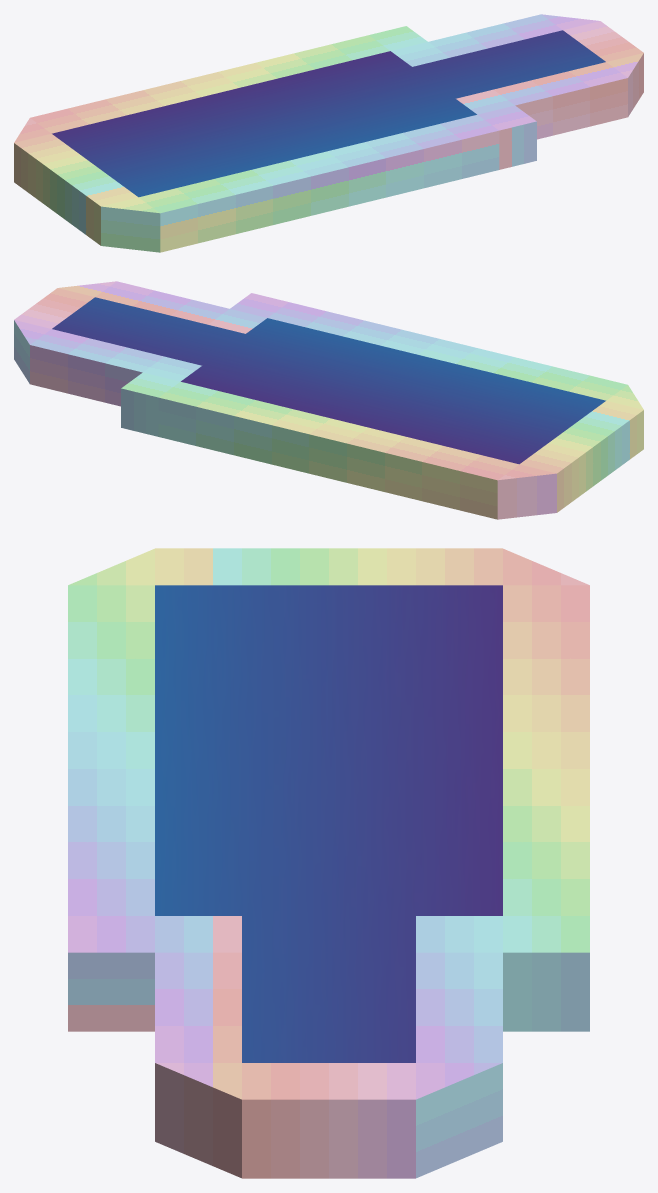
File: conjured_anvil.obj
3 views of the same model, one above another, from view 1: azimuth 30°, elevation 25°; view 2: azimuth 150°, elevation 25°; view 3: azimuth 270°, elevation 25° (orthographic). The views are drawn at different scales.
Visible parts, largest first — view 1: ANVIL_Cube.003; view 2: ANVIL_Cube.003; view 3: ANVIL_Cube.003.
Part boxes in pixels (x1,y1,x2,y2): ANVIL_Cube.003: (14, 14, 643, 252); ANVIL_Cube.003: (14, 281, 643, 519); ANVIL_Cube.003: (68, 548, 589, 1178).
Bounding box in the file's own units: 0.9375 × 0.0625 × 0.375.
